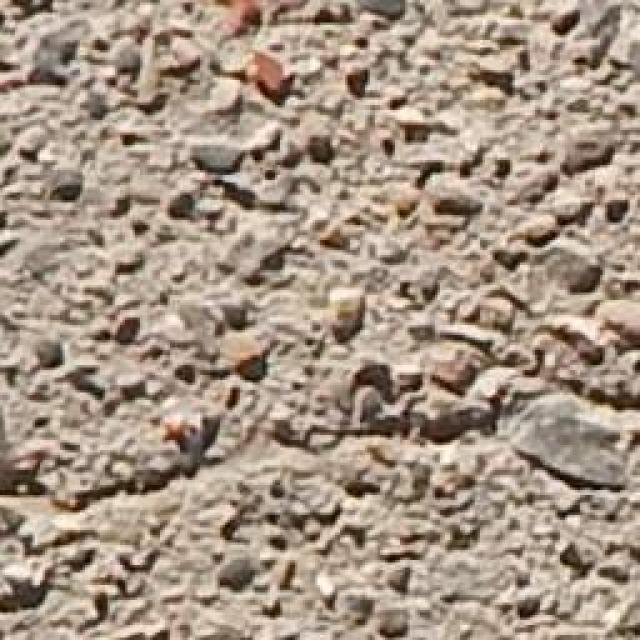concrete-crack: (2, 365, 639, 522)
